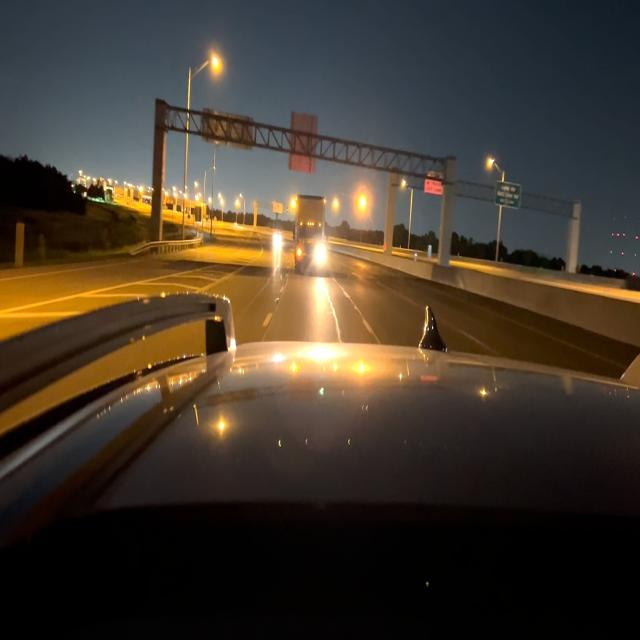back-of-sign: (202, 108, 256, 153), (292, 107, 316, 170)
